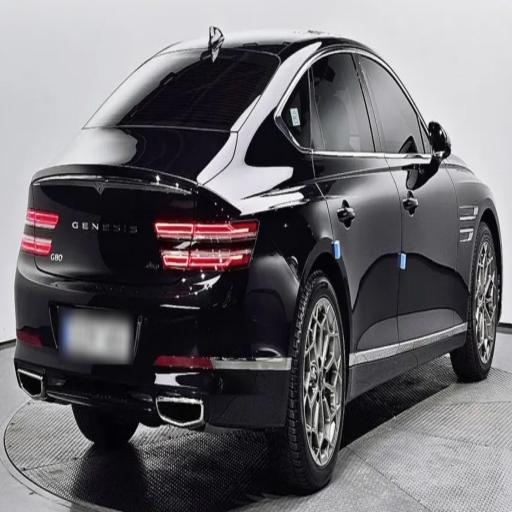normal: (6, 13, 512, 499)
